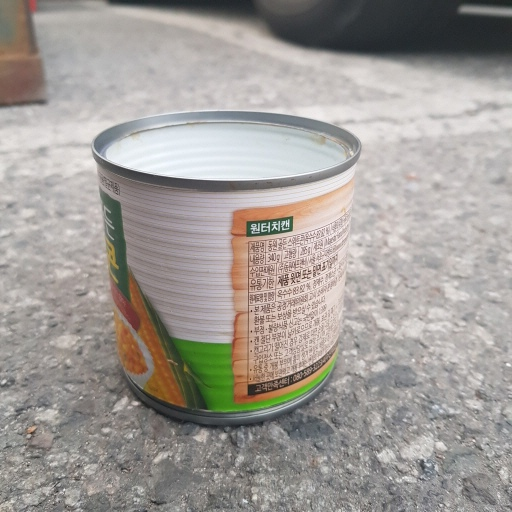Metal_1: (88, 110, 363, 421)
